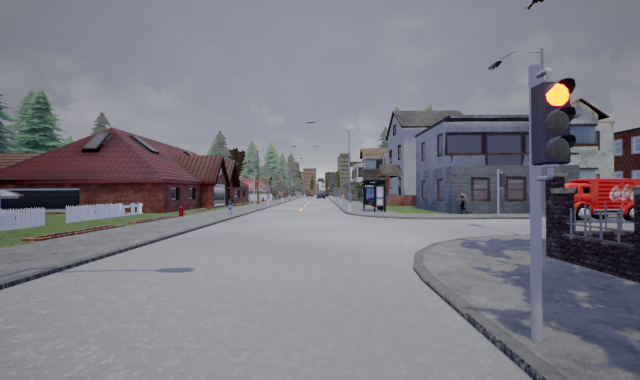pedestrian: (456, 188, 470, 214), (226, 196, 234, 219)
vehicle: (544, 177, 639, 222)
